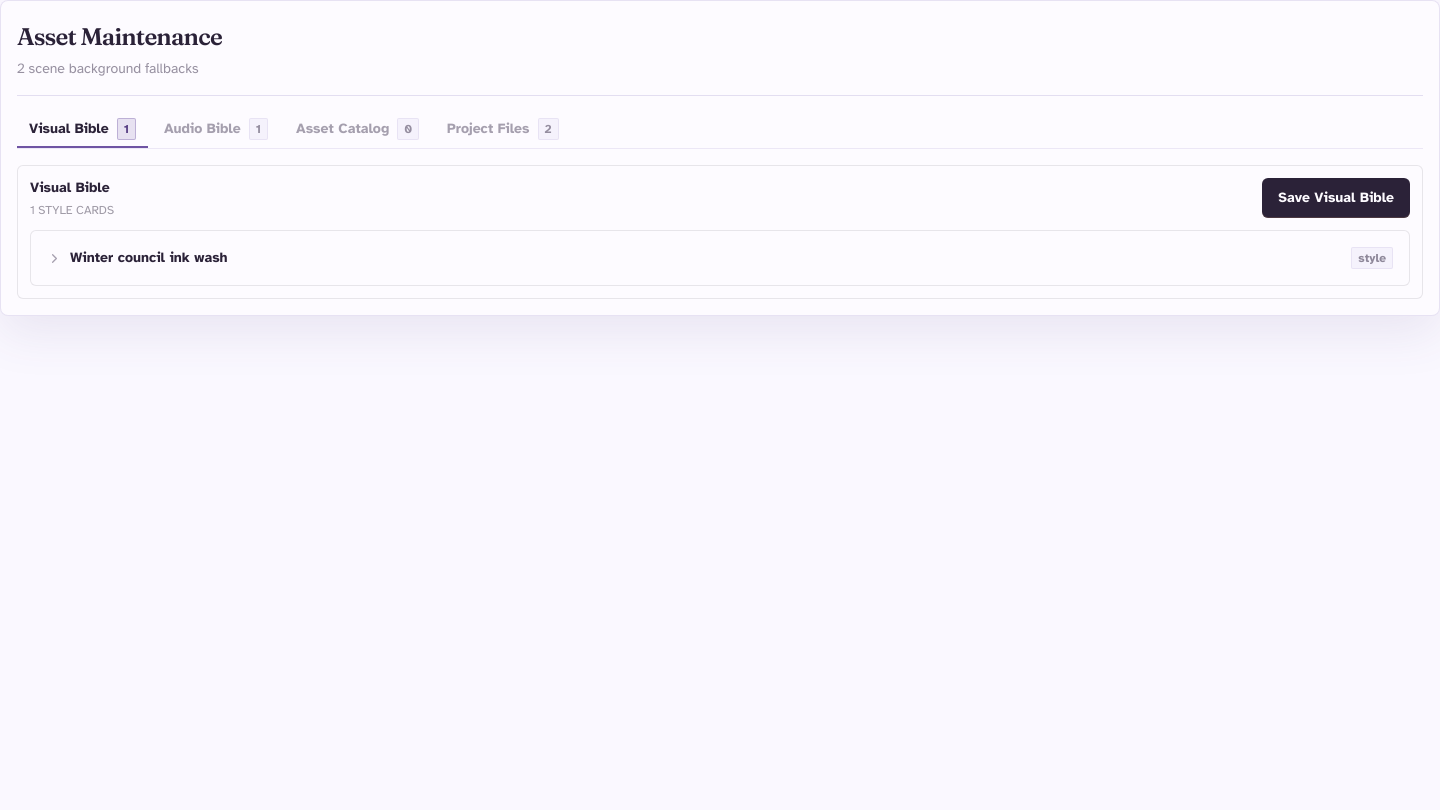
Test: AssetMaintenanceView › shows scene background fallback count when source is scene-background-fallback
The image size is (1440, 810).
Expected: the text "2 scene background fallbacks" is shown, [17,59,222,79]
Click the tab "Asset Catalog 0": {"x": 358, "y": 130} [284,112,431,148]
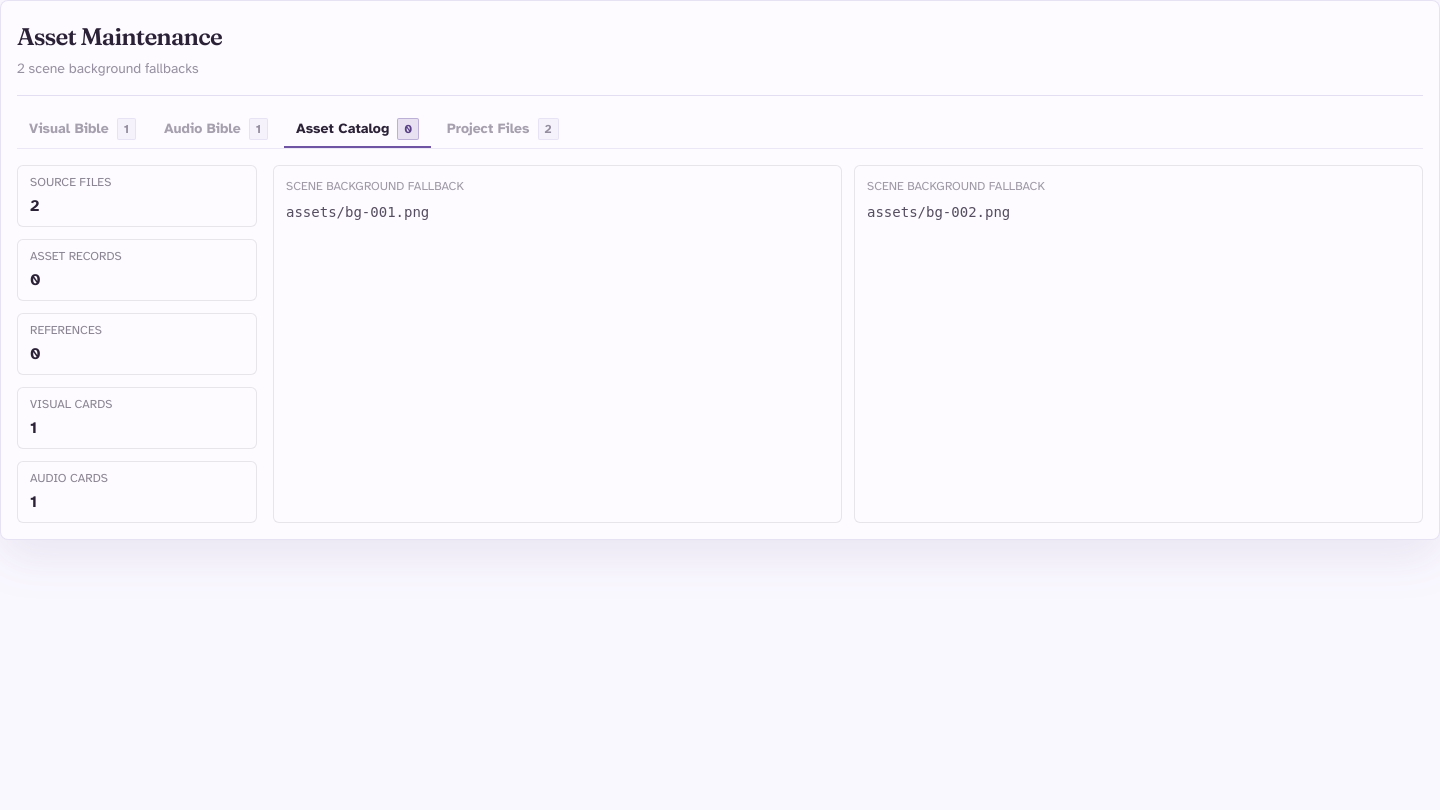
Result: the 1st text "Scene background fallback" is shown at [286,179,464,193]
